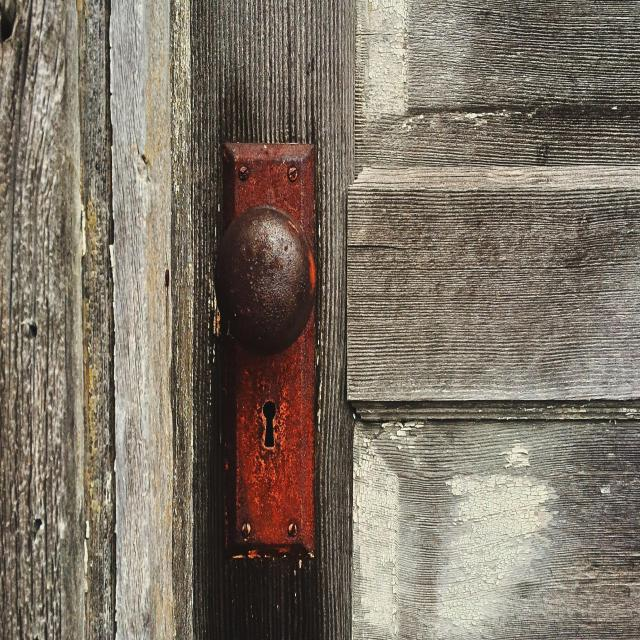door-knob: (215, 204, 315, 354)
